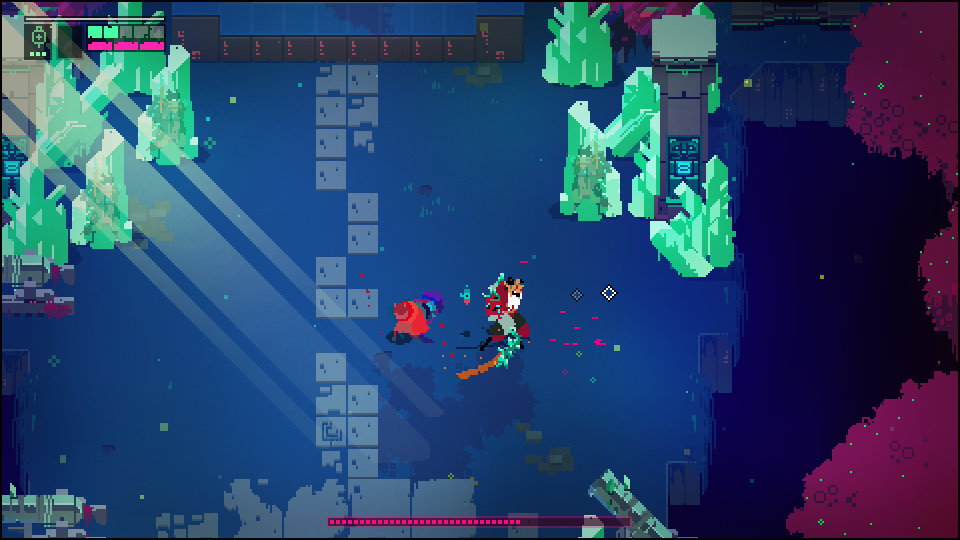hanged_man: (463, 269, 534, 375)
player: (387, 301, 431, 344)
